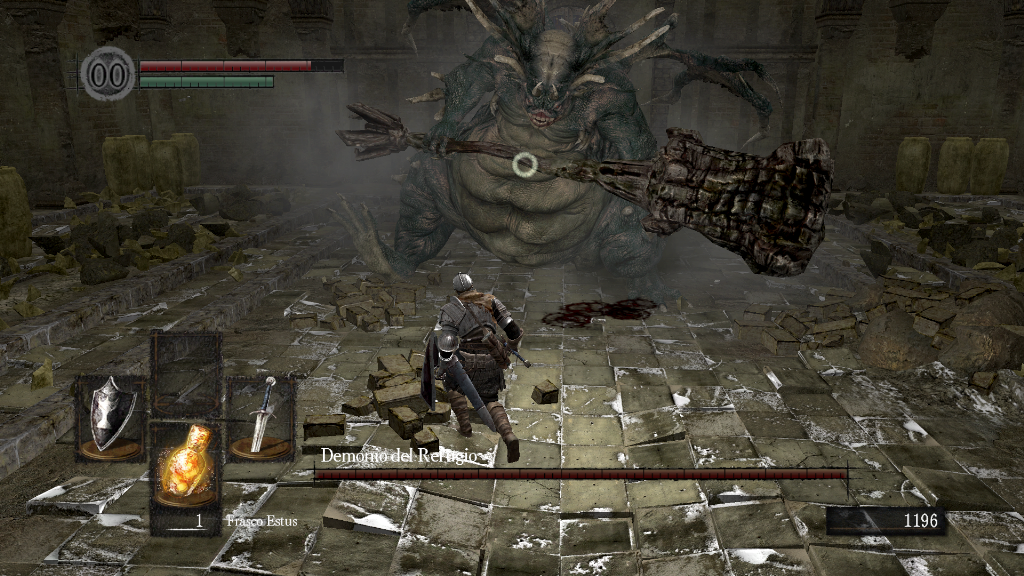asylumDemon: (325, 2, 836, 278)
bossHP: (314, 469, 847, 479)
health: (138, 58, 343, 71)
humanity: (80, 45, 136, 102)
player: (420, 271, 529, 461)
souls: (825, 506, 945, 536)
stamina: (138, 74, 274, 88)
